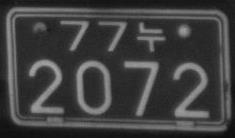0: (74, 59, 112, 115)
2: (172, 60, 210, 119), (29, 58, 64, 114)
7: (123, 59, 159, 117), (59, 19, 91, 51), (97, 20, 128, 52)
누: (136, 21, 165, 52)
